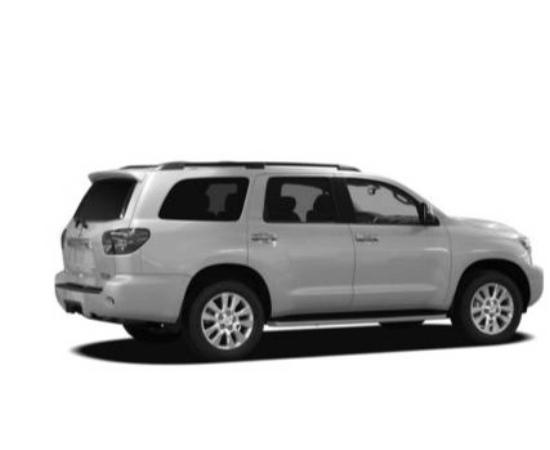car: (56, 159, 544, 362)
